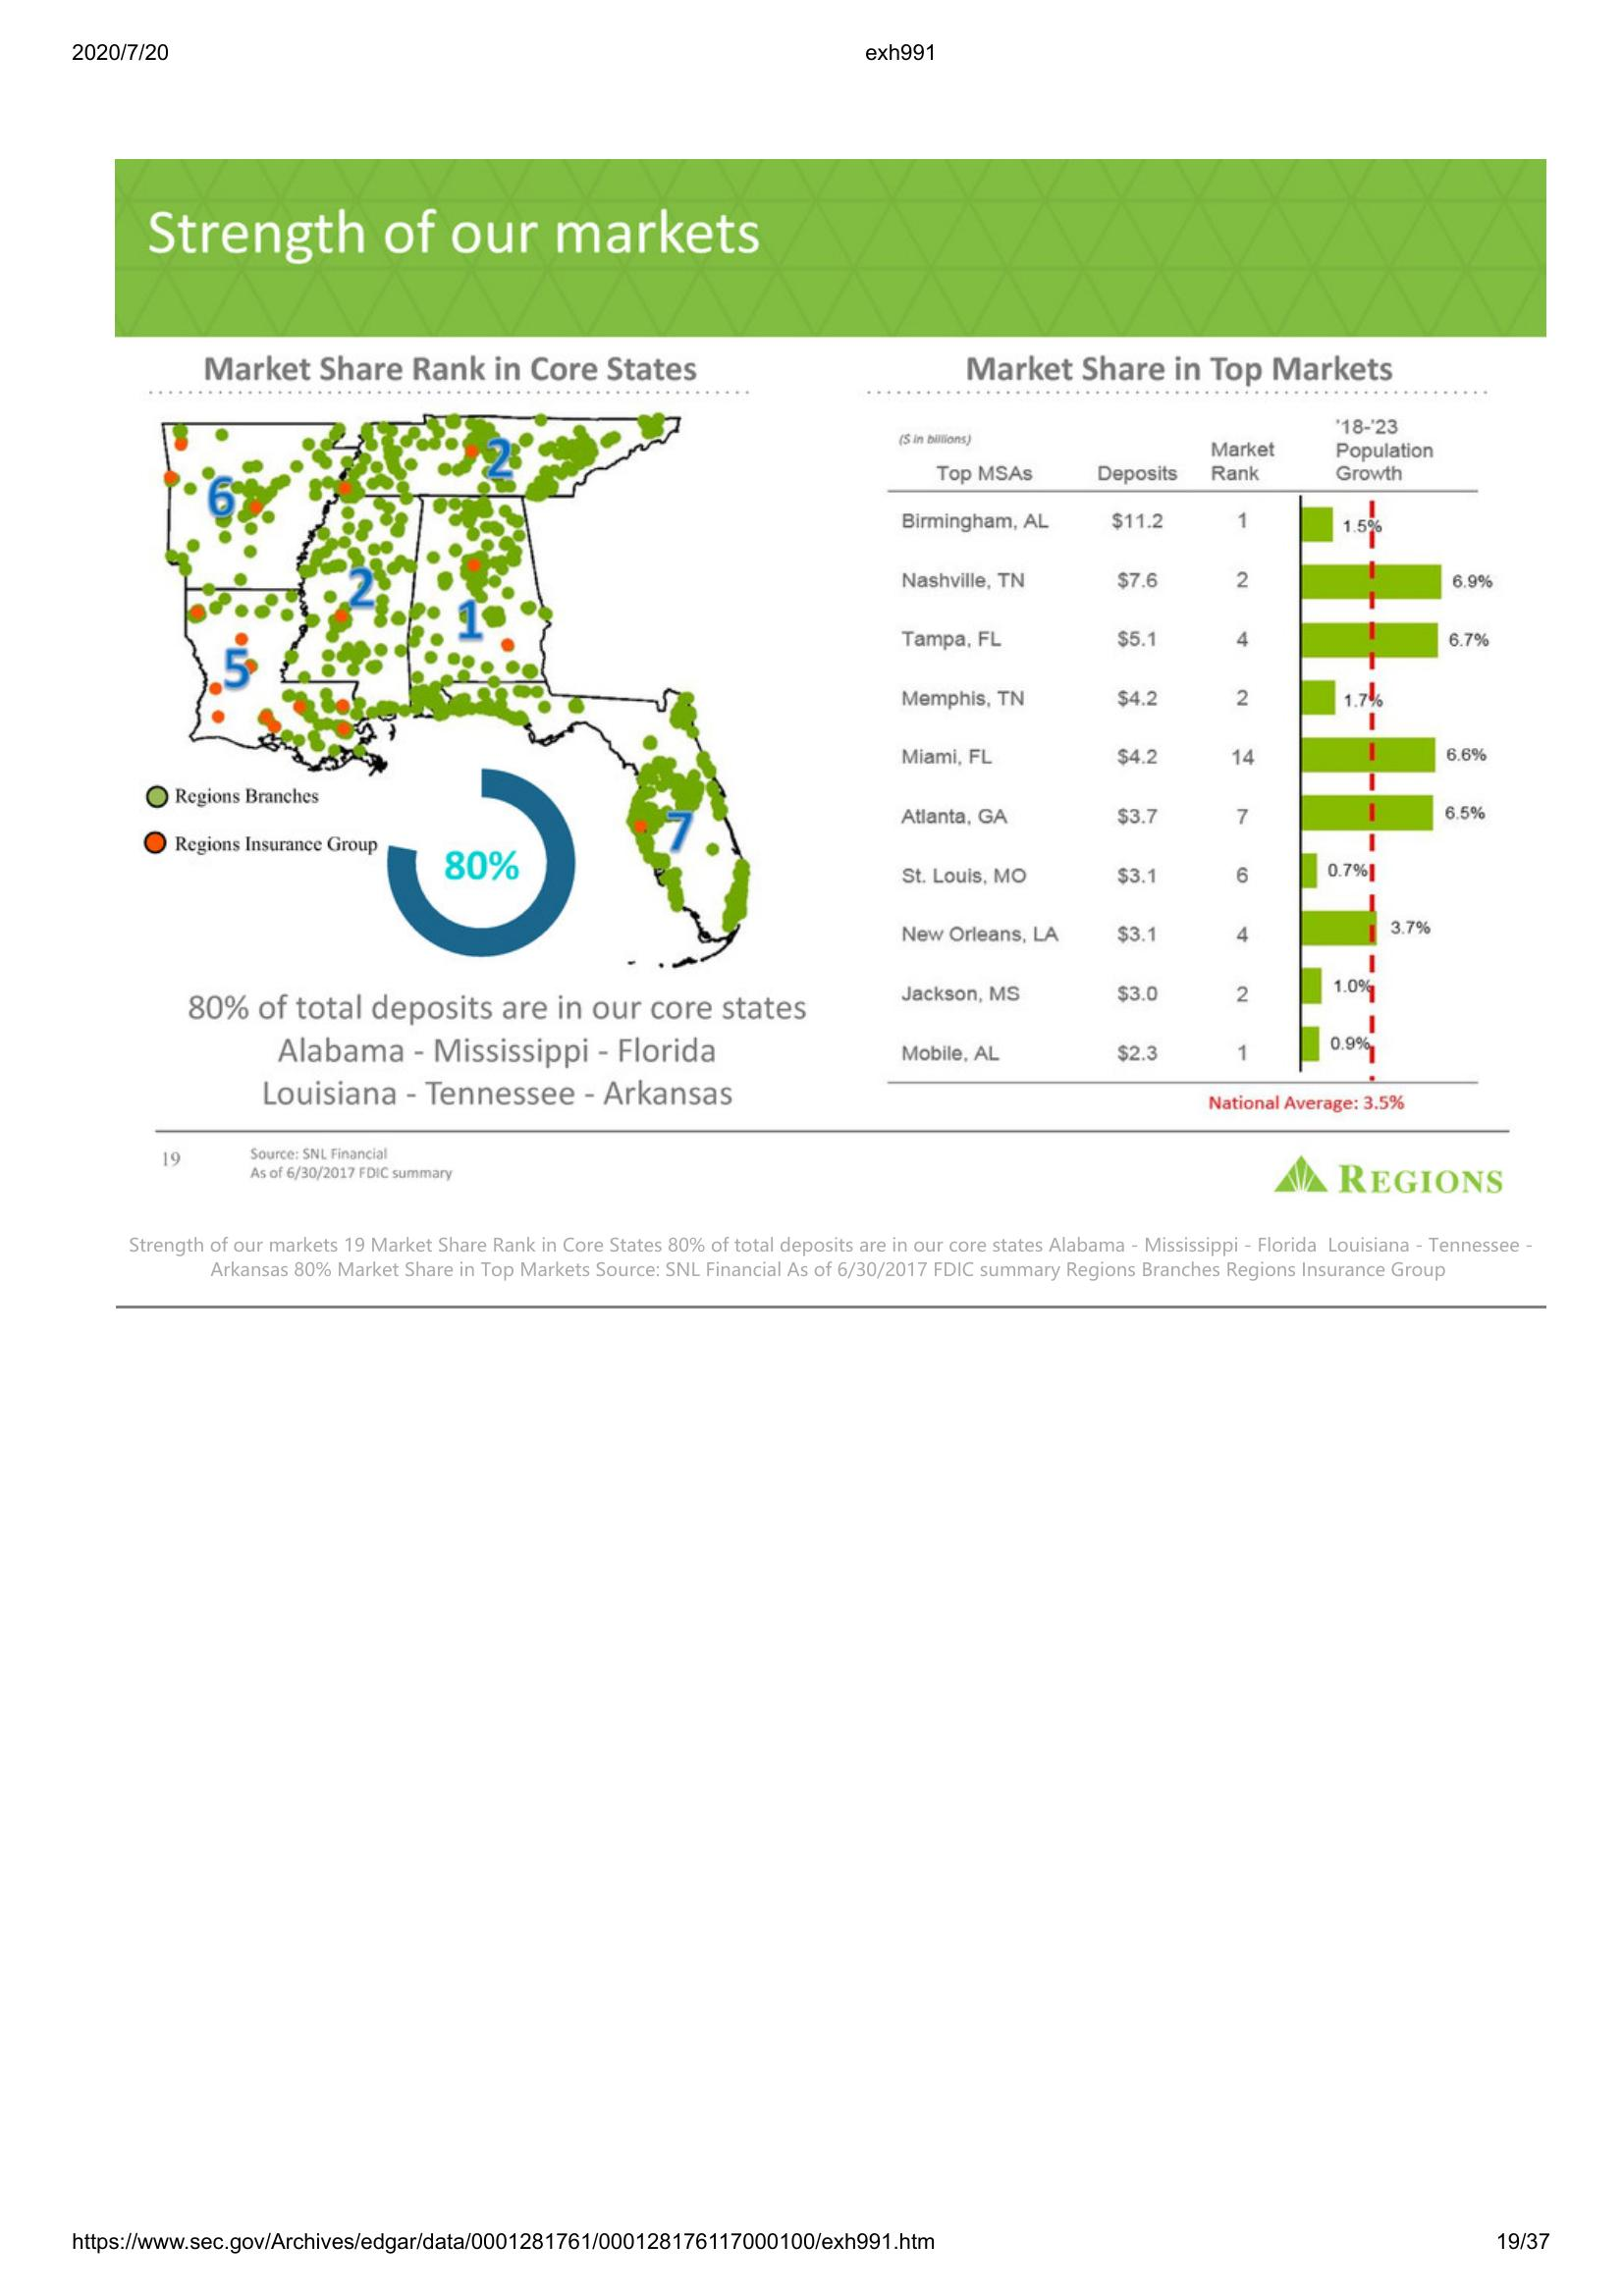table: (892, 413, 1498, 1092)
